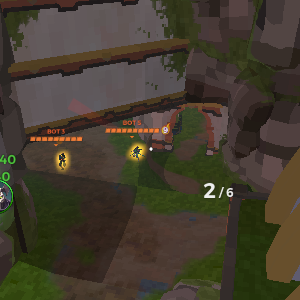model: (129, 143, 143, 164), (54, 150, 68, 170)
